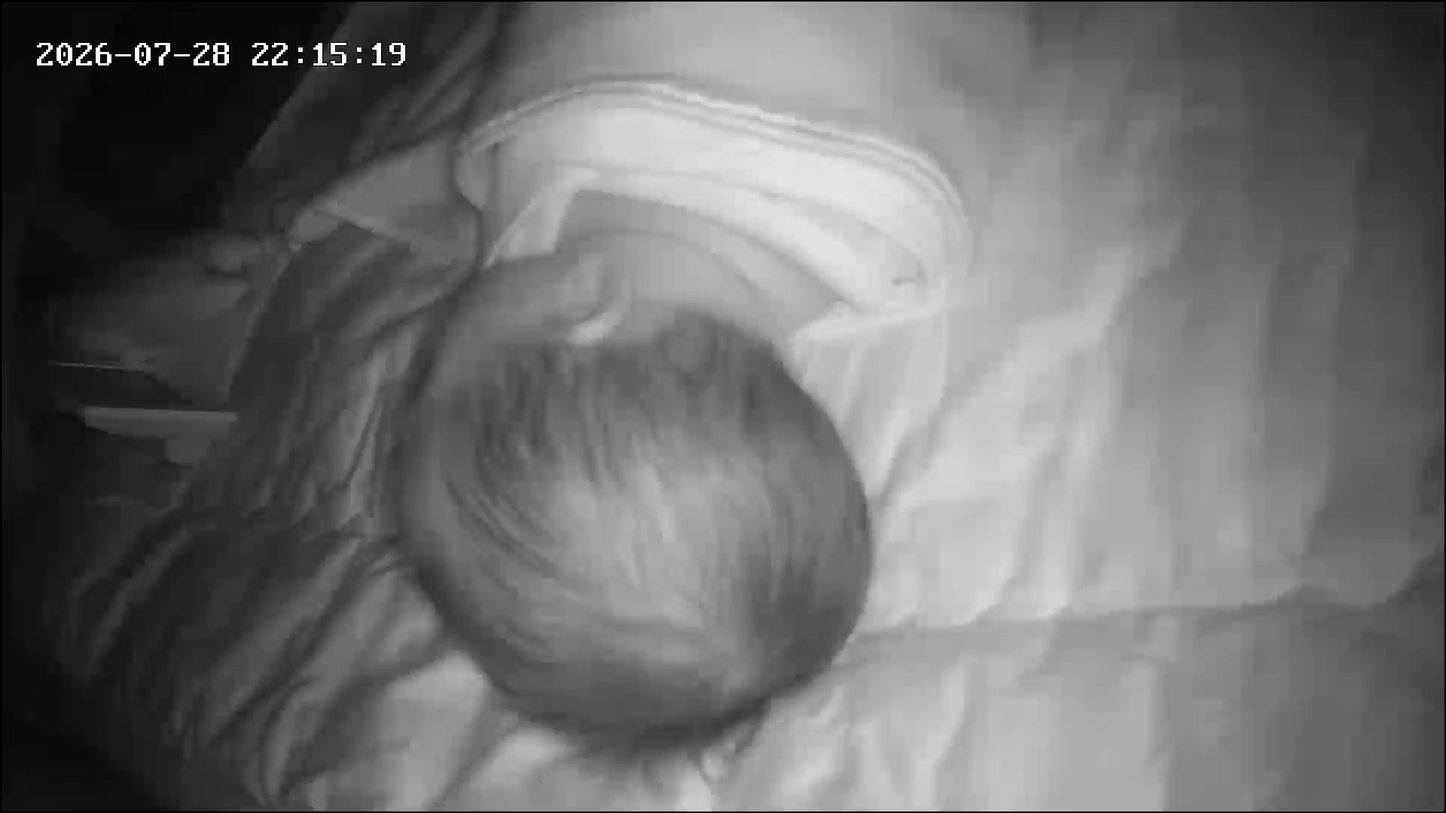baby: (386, 0, 1036, 765)
baby_face: (378, 212, 881, 755)
